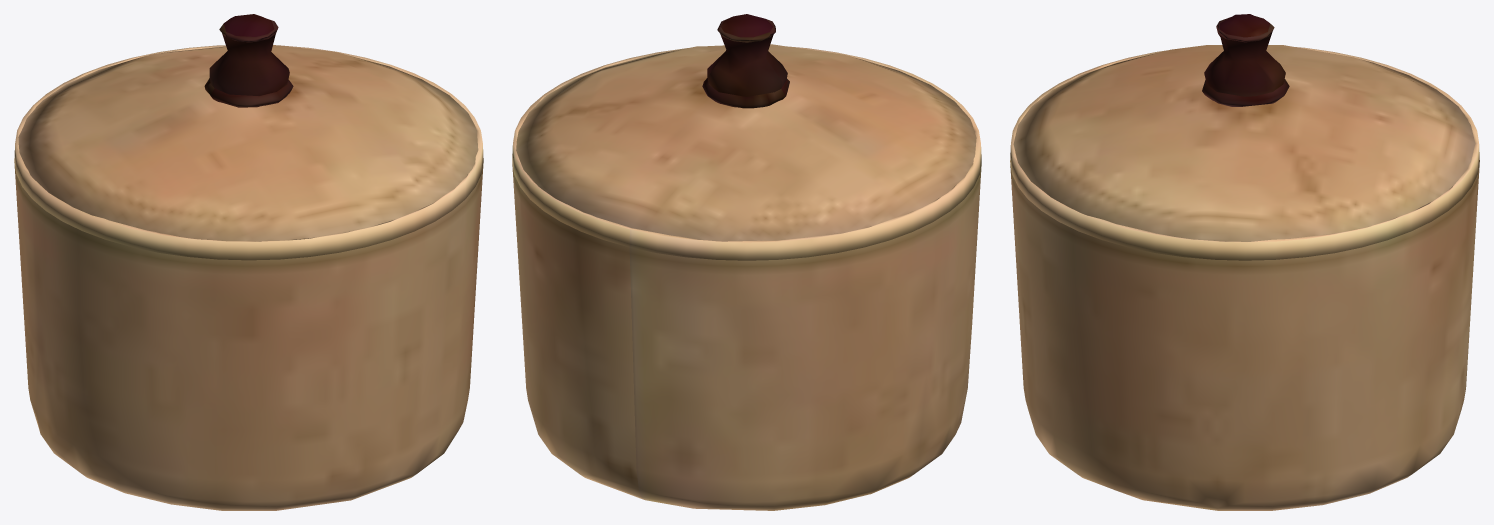
The model's file is design-brass-pot-01.glb.
3 renders of one model, left to right at view 1: azimuth 30°, elevation 25°; view 2: azimuth 150°, elevation 25°; view 3: azimuth 270°, elevation 25°, orthographic.
Parts seen in each view (by area): view 1: brass_pot_01; view 2: brass_pot_01; view 3: brass_pot_01.
Boxes of the visible parts, <box> form: brass_pot_01: <box>14,14,483,510</box>; brass_pot_01: <box>512,14,981,510</box>; brass_pot_01: <box>1010,14,1479,510</box>.
Size of the model in its own units: 0.2993 by 0.2909 by 0.2992.
1 material, 1 textured.
